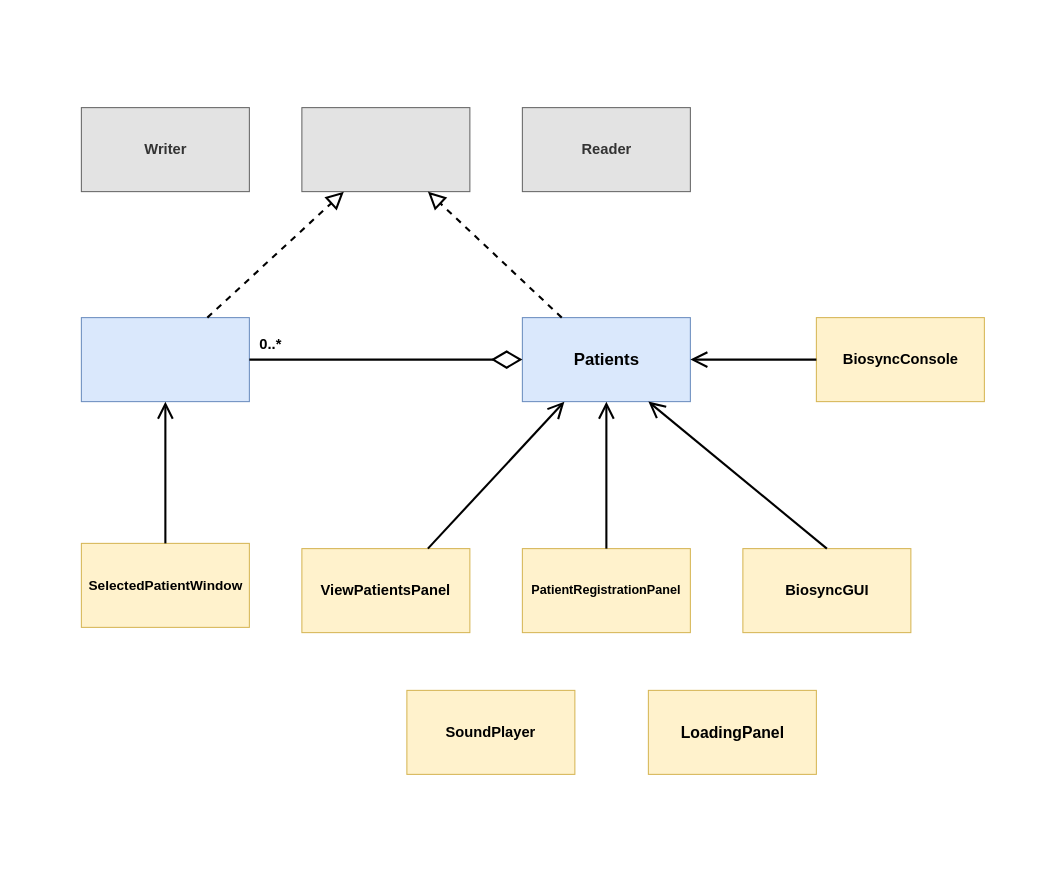
The diagram is 1054 pixels wide and 876 high, and some of its shapes have lost their labels. Here are the shapes that lost their labels. From the top down, the centre of each, then its label:
At point (385, 149): "«interface» Savable".
At point (164, 359): "Patient".
